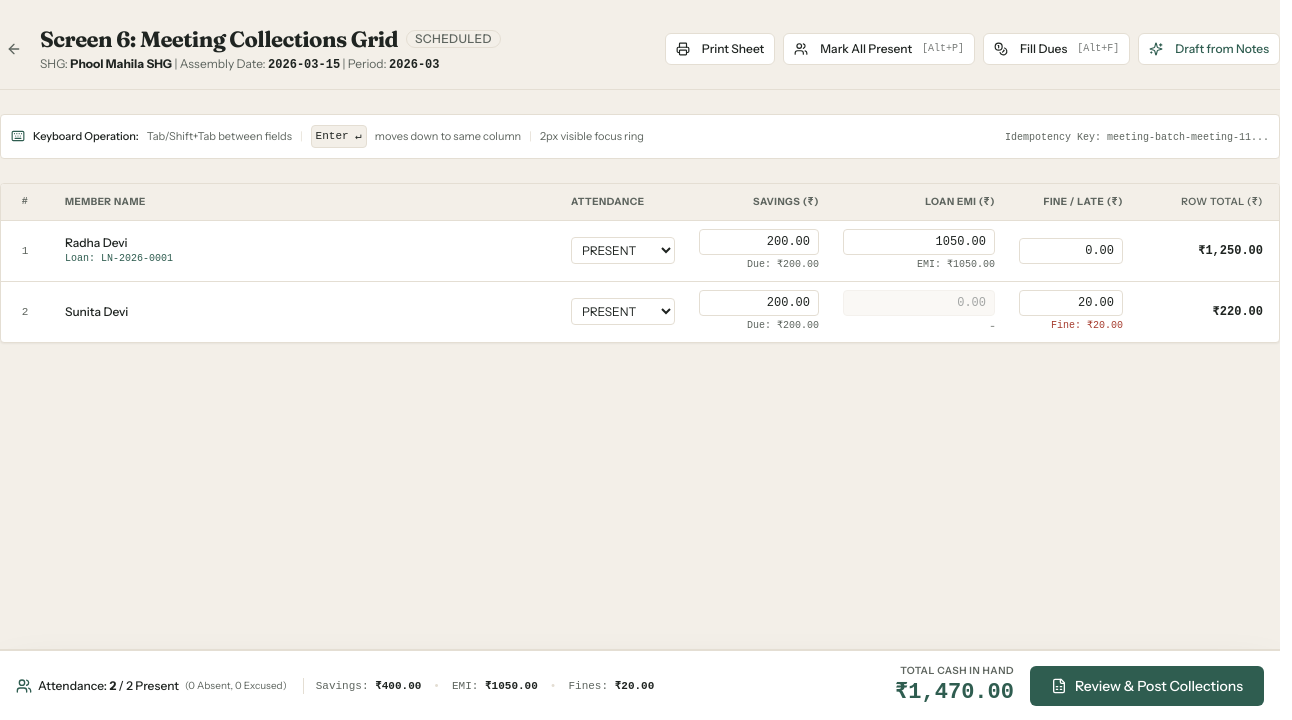
Test case: Screen 6: Meeting Collection Grid › updates live running totals in footer when cells are edited inline
The image size is (1292, 720).
expect the text "Radha Devi" is shown: met, box [65, 234, 128, 250]
Note: Change first savings input from 200 to 500
Replace the text in the 1st field with "500.00": (759, 242) [699, 228, 819, 254]
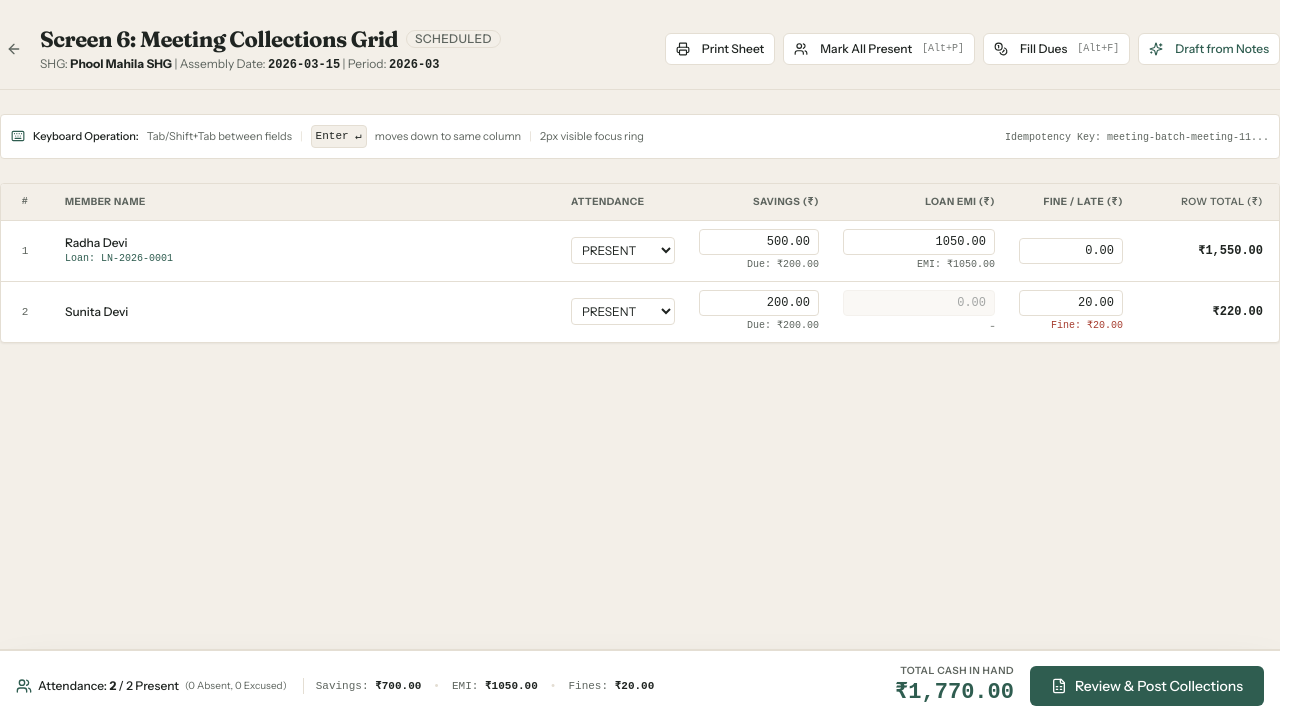
expect the text "₹1,770.00" is shown: met, box [895, 678, 1014, 708]
